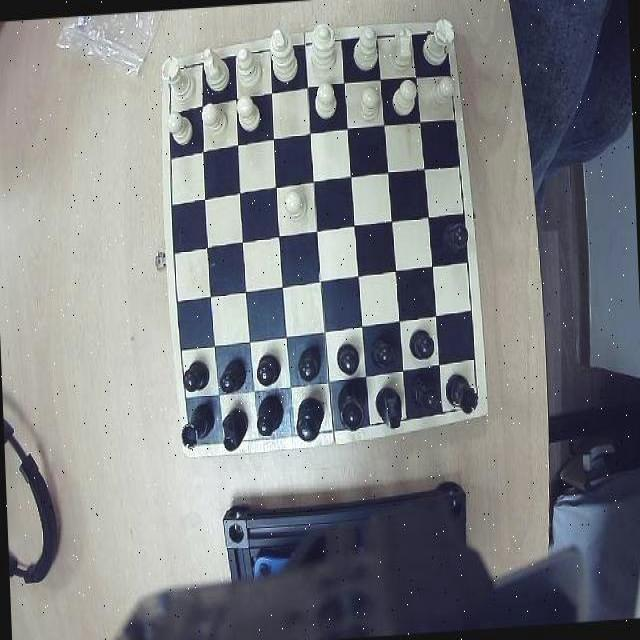chess-table-corners: (453, 382, 486, 417), (426, 25, 455, 55), (183, 424, 214, 452), (162, 60, 188, 88)
